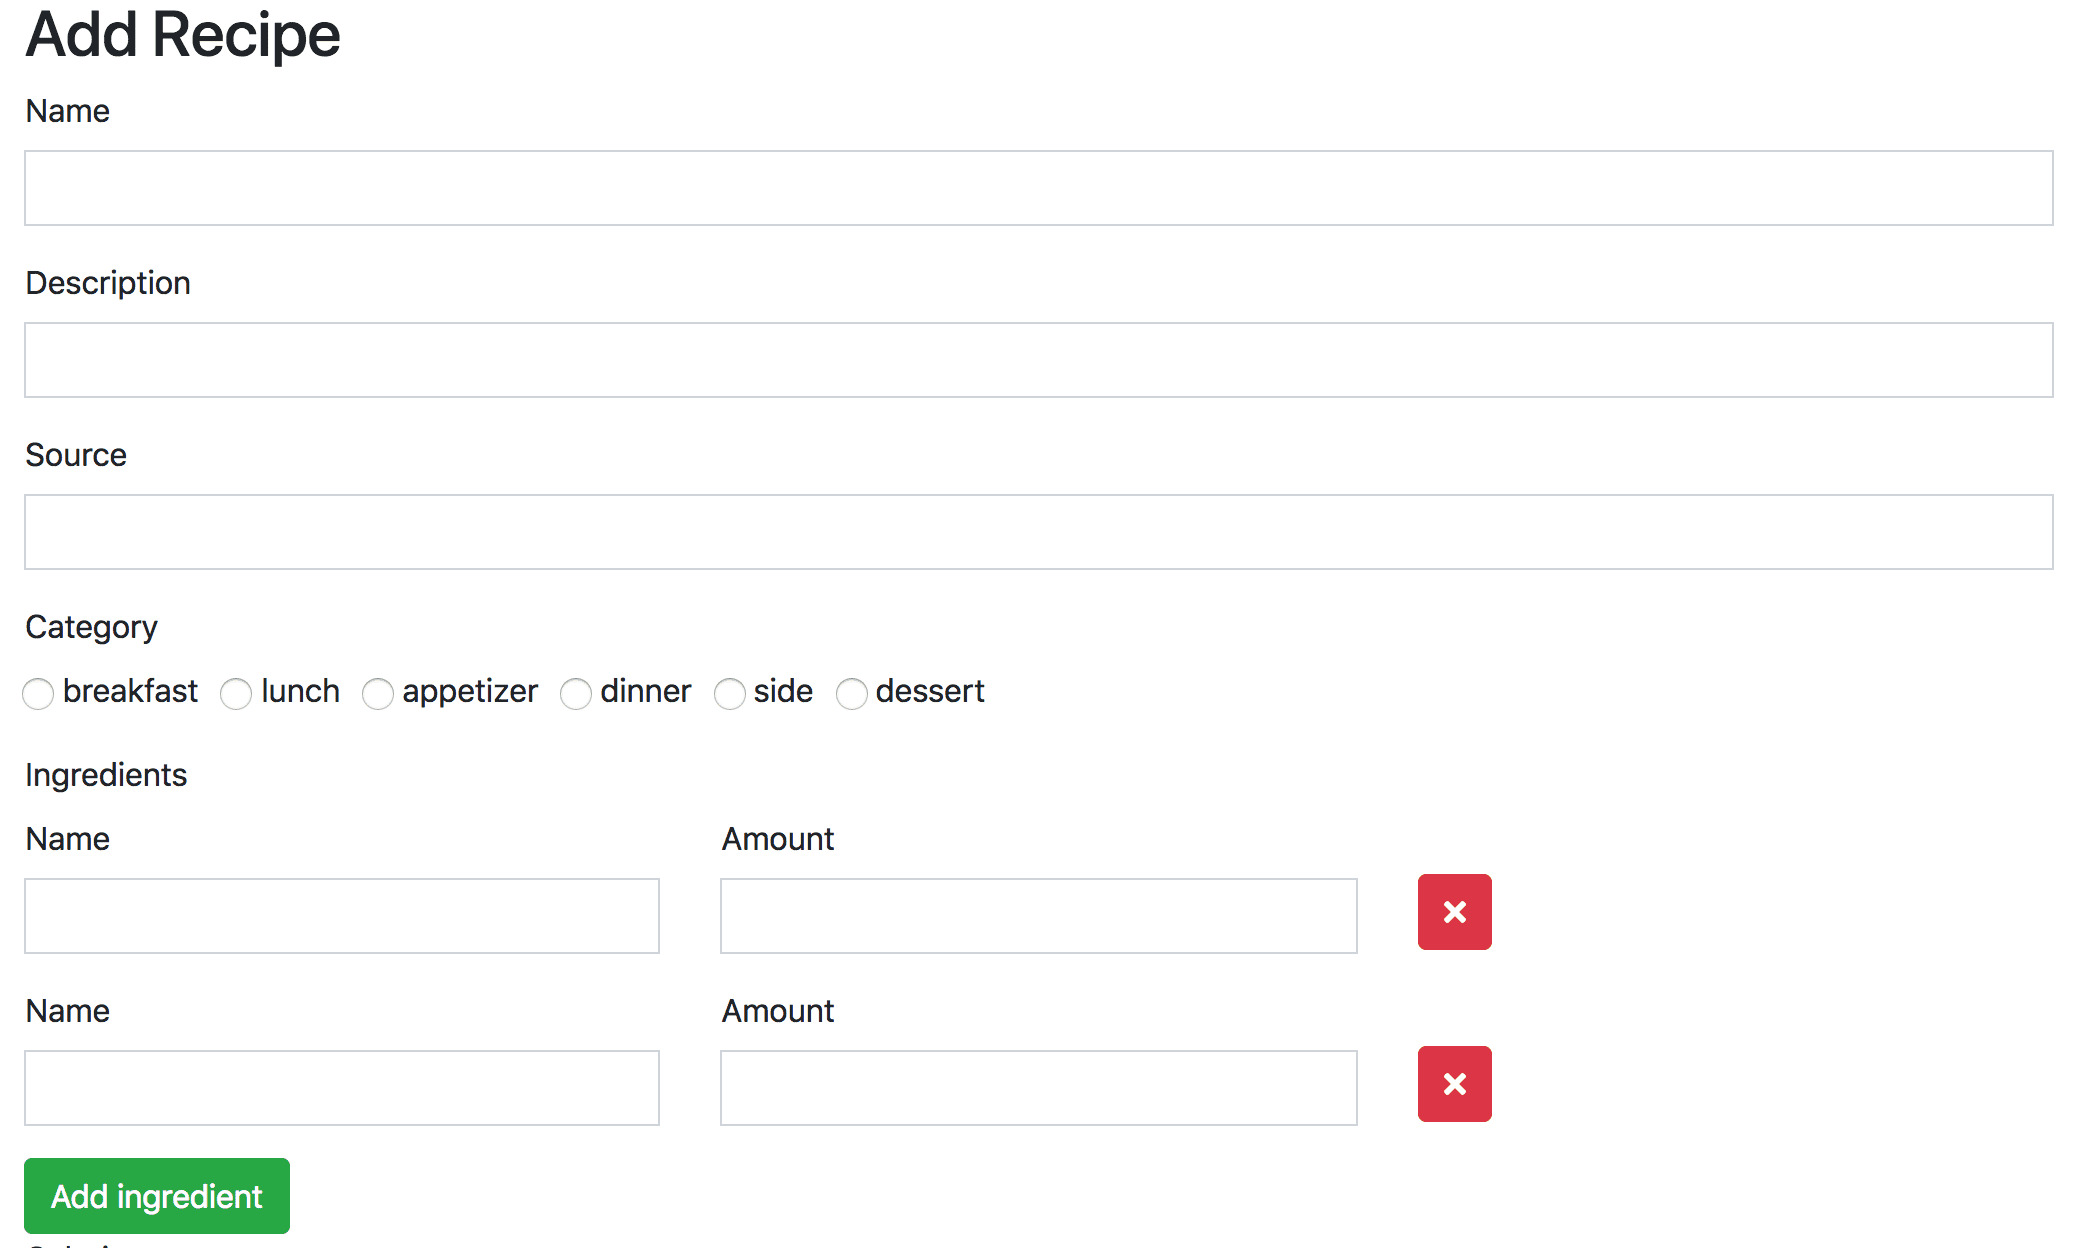_form_: (1, 1, 2074, 591), (686, 602, 1413, 1187), (683, 600, 1410, 1186), (1, 663, 725, 1248)
button: (19, 1151, 293, 1238)
field: (18, 316, 2056, 403), (19, 490, 2060, 573), (18, 149, 2056, 229), (16, 868, 668, 958), (710, 1041, 1364, 1129), (18, 1044, 664, 1131), (712, 874, 1368, 955)
field_with_label: (13, 269, 2065, 410), (13, 441, 2065, 579), (13, 98, 2065, 235), (706, 825, 1378, 967), (10, 994, 667, 1138), (704, 995, 1370, 1137), (10, 828, 671, 967)
radio: (354, 675, 408, 718), (556, 675, 602, 719), (833, 677, 882, 715), (709, 676, 752, 718), (19, 672, 59, 715), (220, 675, 263, 715)
radio_with_label: (354, 669, 535, 724), (9, 667, 198, 718), (553, 669, 694, 727), (824, 670, 980, 721), (214, 667, 345, 721), (703, 670, 810, 725)
